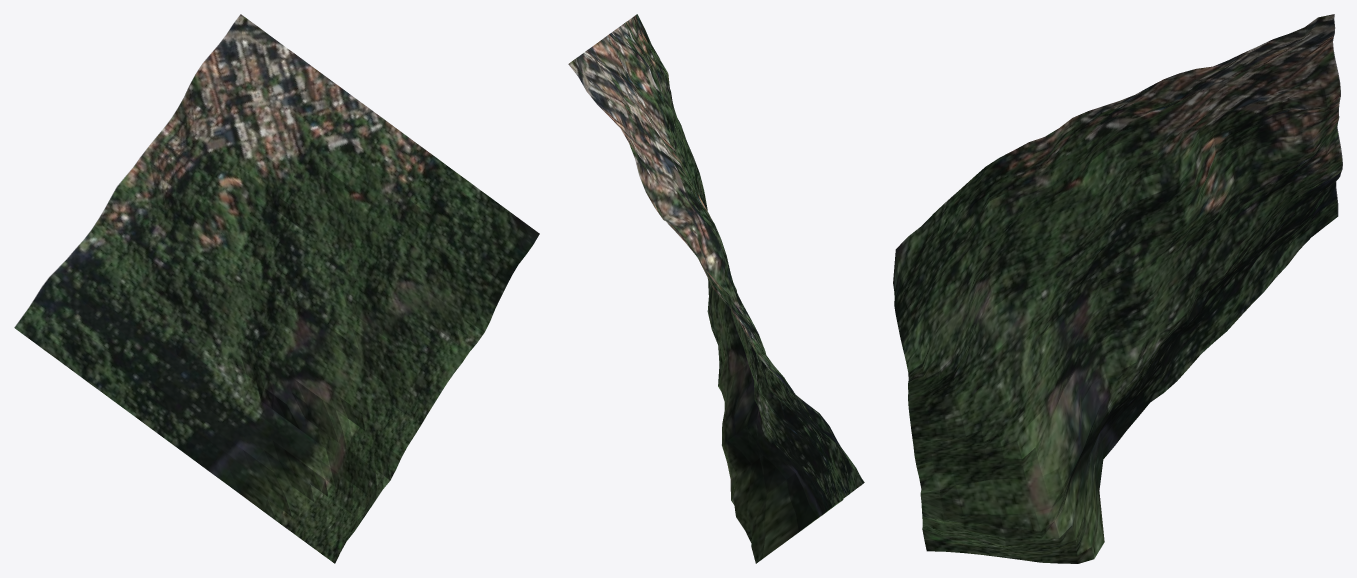
3 views of the same model, side by side, from view 1: azimuth 30°, elevation 25°; view 2: azimuth 150°, elevation 25°; view 3: azimuth 270°, elevation 25° (orthographic). The views are drawn at different scales.
Bounding box in the file's own units: 1213 × 1387 × 970.
1 material, 1 textured.
